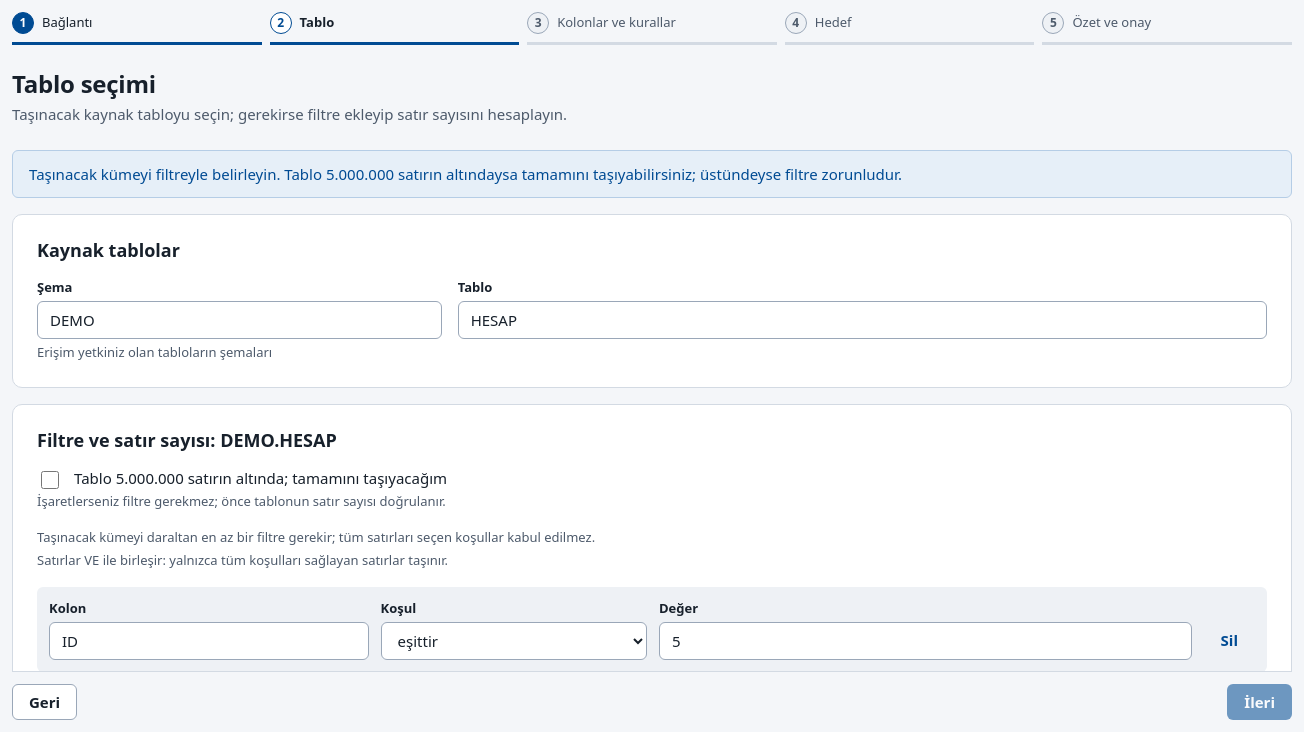
Test: Tables › Tablo açılır listesi seçili tabloyu gösterir ve listeden seçim yapılır
The width and height of the screenshot is (1304, 732).
Click the dropdown labelled "Tablo".
click(862, 320)  # box [458,301,1267,339]
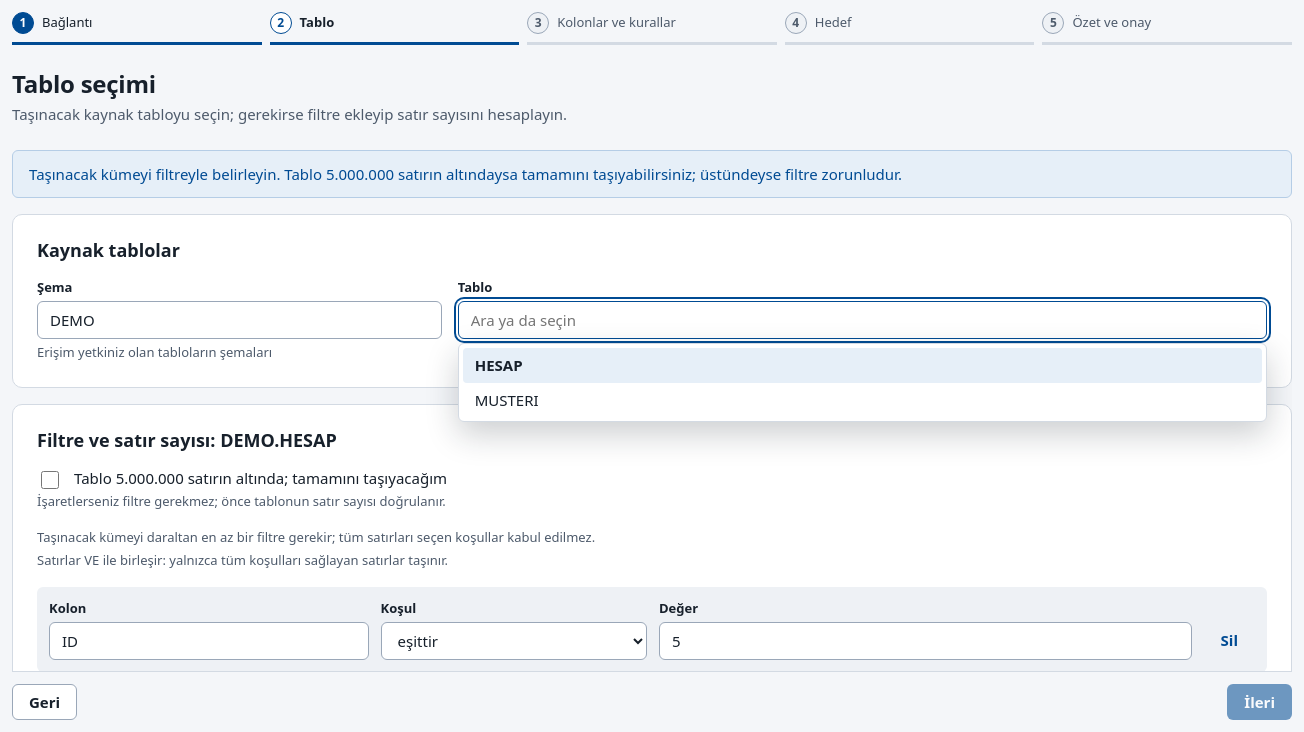
Click the option "MUSTERI".
click(507, 400)  # box [475,390,539,410]
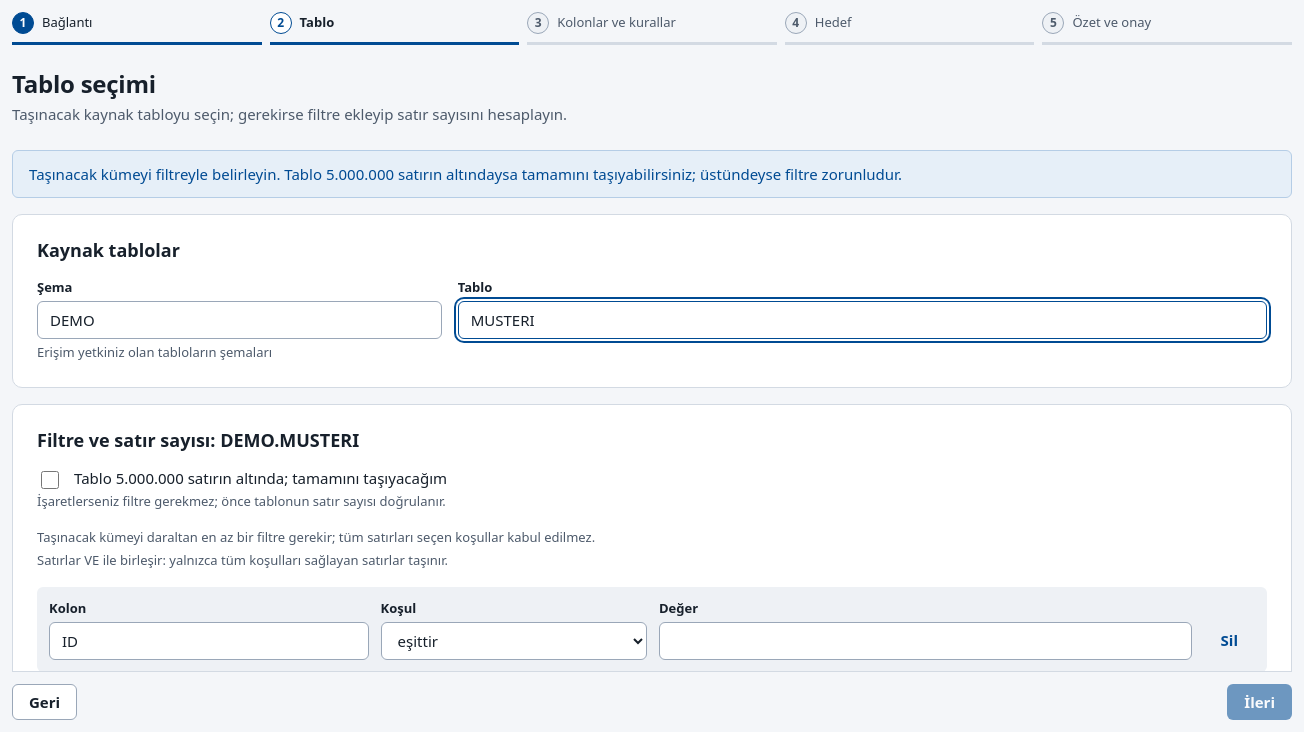
Expected: the button "İleri" is disabled, [1227,684,1292,720]
Result: the heading "Filtre ve satır sayısı: DEMO.MUSTERI" is shown at [37,428,359,452]
